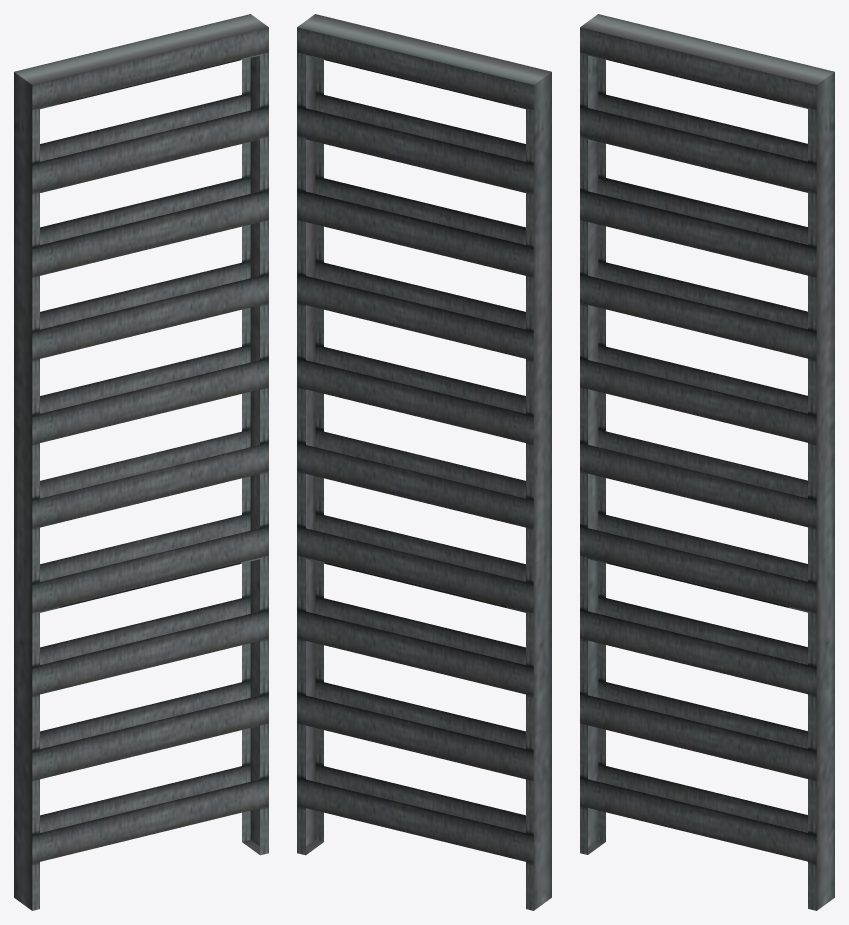
The model's file is Ladder.glb.
3 renders of one model, left to right at view 1: azimuth 30°, elevation 25°; view 2: azimuth 150°, elevation 25°; view 3: azimuth 330°, elevation 25°, orthographic.
Parts seen in each view (by area): view 1: Cube; view 2: Cube; view 3: Cube.
Part boxes in pixels (<box>): Cube: <box>14,14,268,910</box>; Cube: <box>297,14,551,910</box>; Cube: <box>580,14,834,910</box>.
Bounding box in the file's own units: 0.6 × 2 × 0.08.
1 material, 1 textured.
